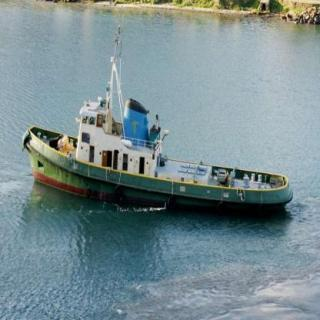Tug Boat: (21, 42, 292, 211)
